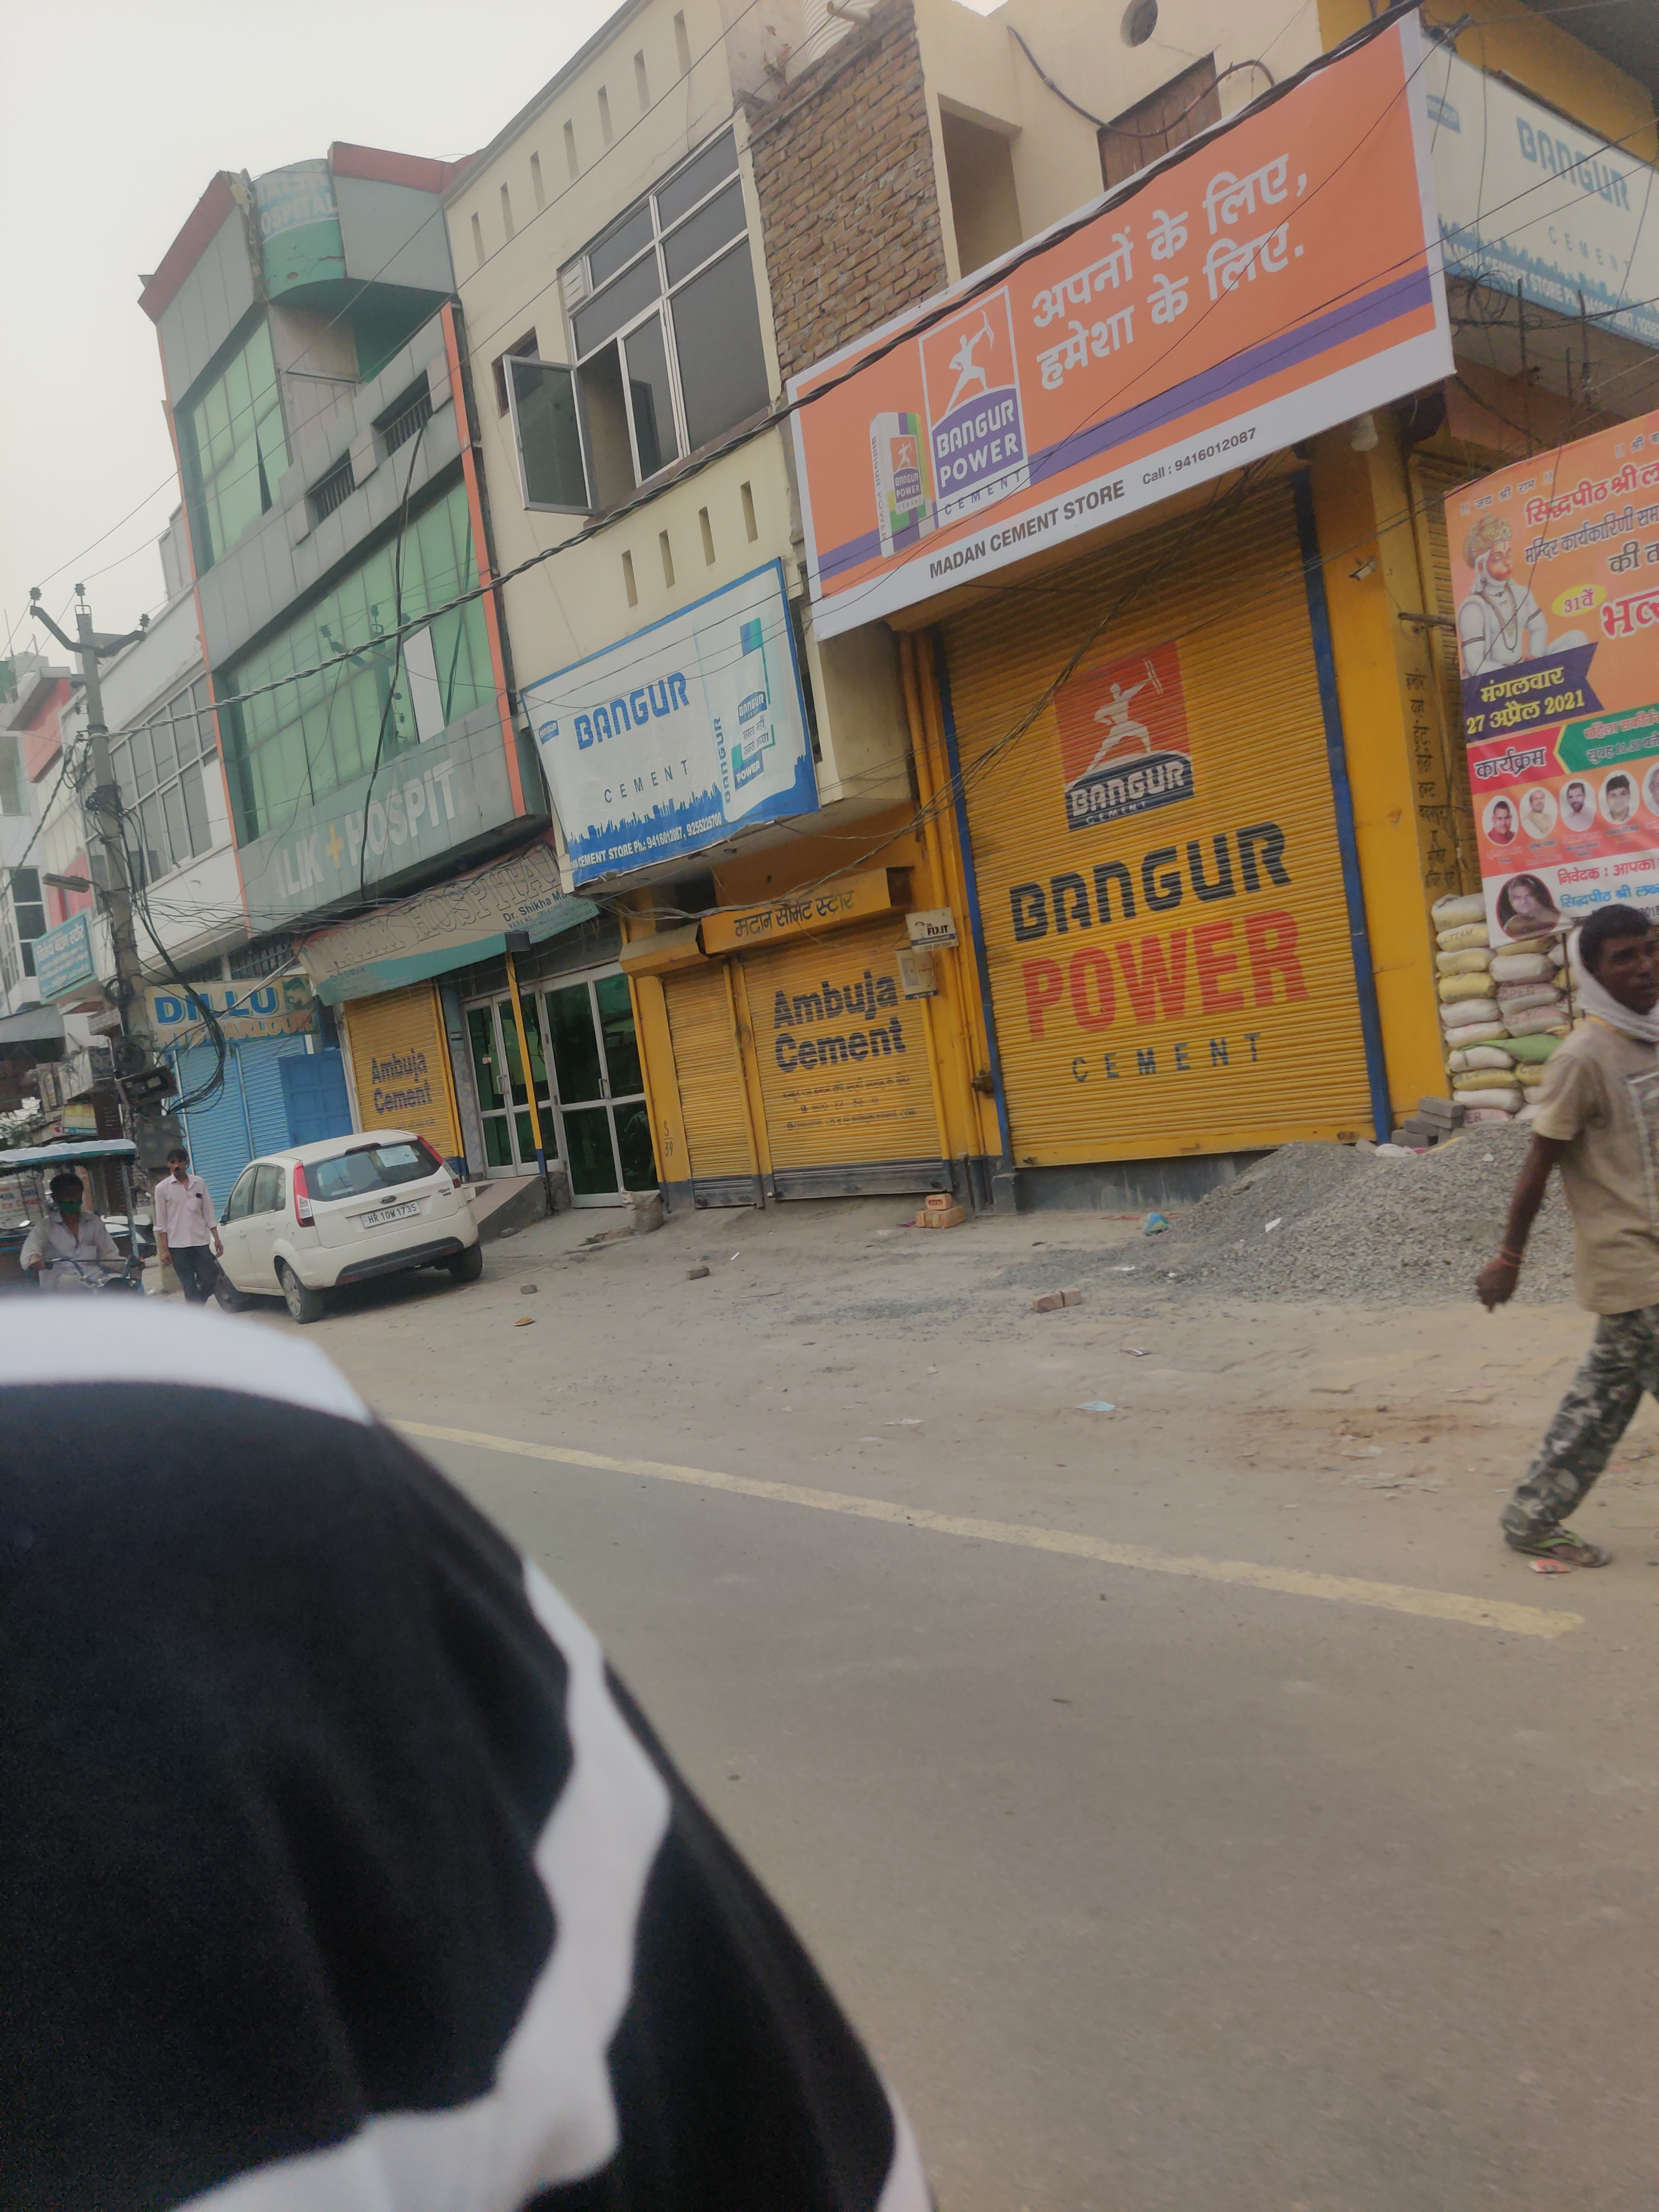text: (767, 38, 1457, 644), (913, 573, 1359, 1146), (1431, 411, 1659, 772), (519, 655, 840, 887), (242, 702, 521, 918), (1464, 61, 1654, 336), (251, 845, 601, 981), (728, 883, 920, 1083), (139, 981, 314, 1055), (352, 1038, 437, 1130), (35, 914, 98, 998)
